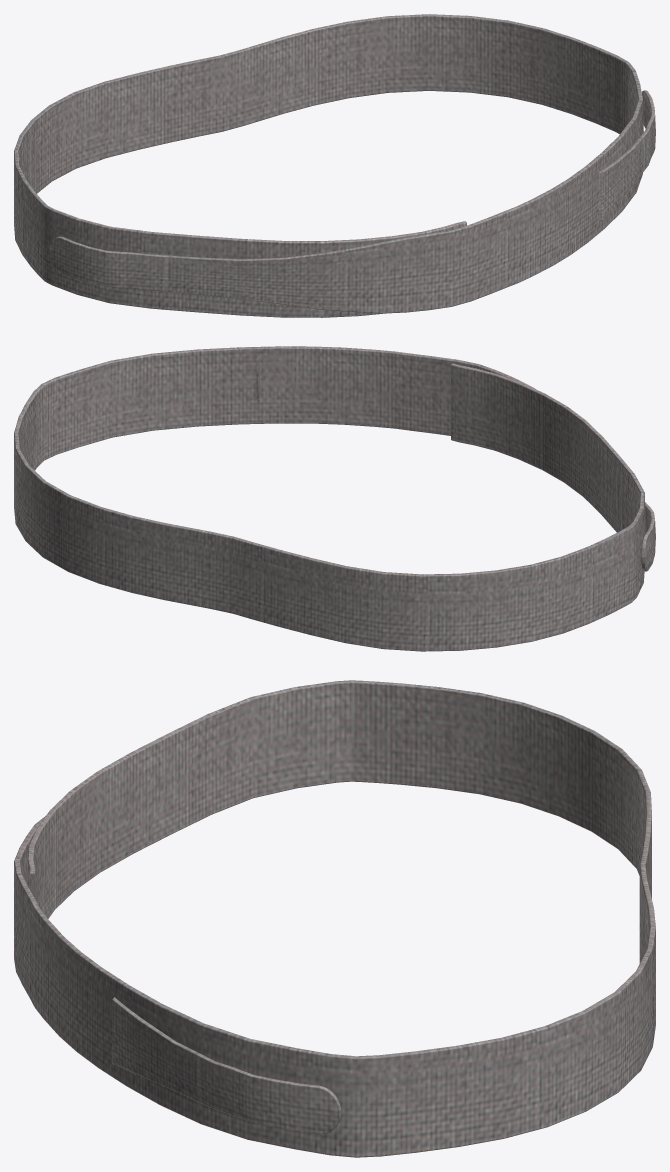
Rendered from Double_Side_Closure_5cm update.glb.
The picture shows the model from 3 angles, top to bottom: view 1: azimuth 30°, elevation 25°; view 2: azimuth 150°, elevation 25°; view 3: azimuth 270°, elevation 25°; orthographic projection. The views are drawn at different scales.
Visible parts, largest first — view 1: Double_Side_Closure_5cm.001; view 2: Double_Side_Closure_5cm.001; view 3: Double_Side_Closure_5cm.001.
Boxes of the visible parts, bbox=[...] form: Double_Side_Closure_5cm.001: bbox=[14, 14, 655, 317]; Double_Side_Closure_5cm.001: bbox=[14, 346, 655, 651]; Double_Side_Closure_5cm.001: bbox=[14, 680, 655, 1157].
Size of the model in its own units: 0.048 by 0.00577 by 0.0336.
1 material, 1 textured.
